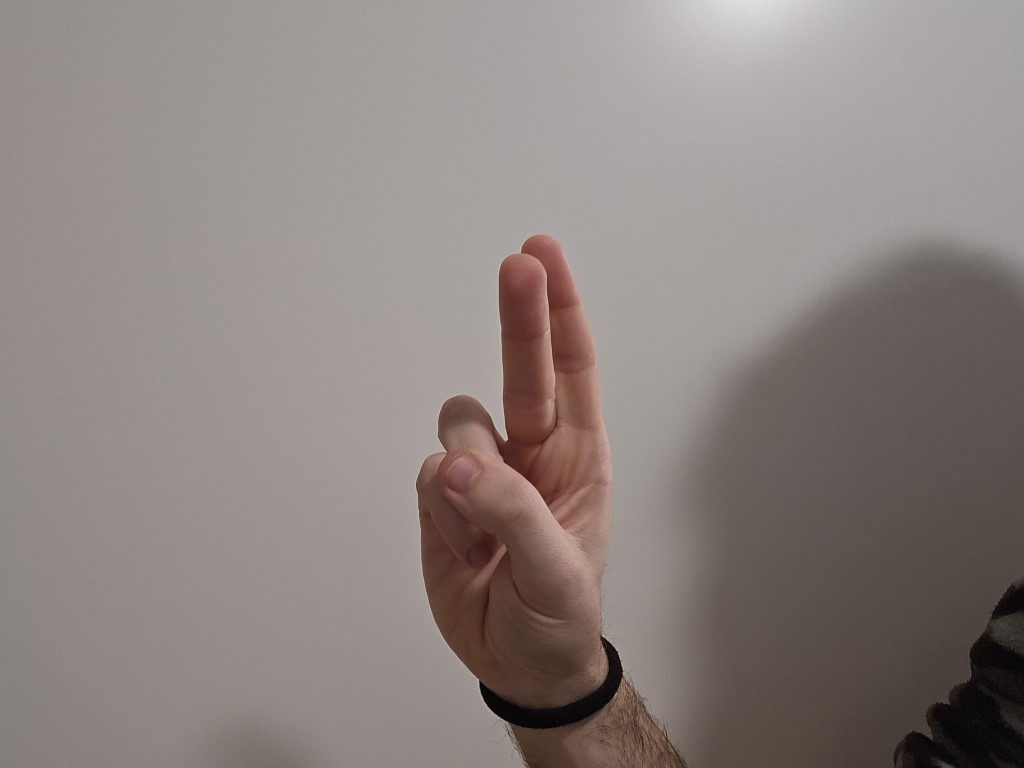r: (391, 233, 630, 686)
